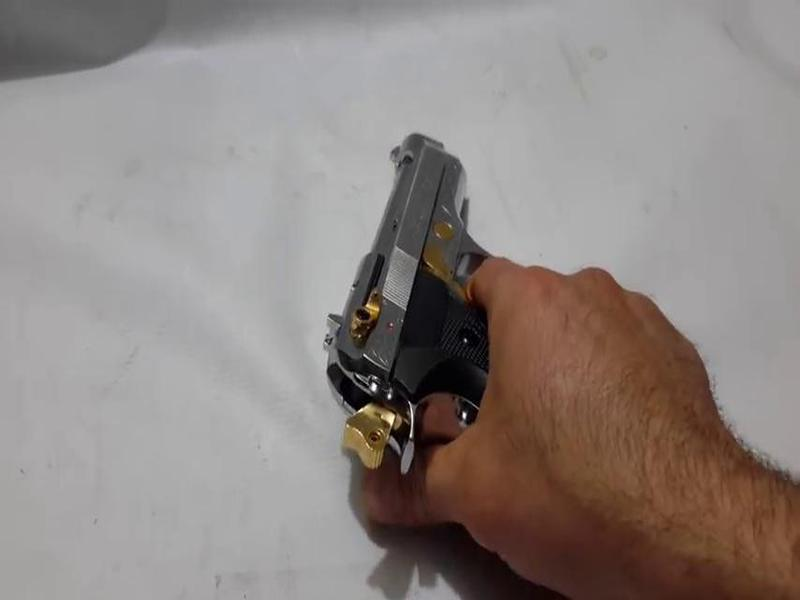Pistola: (317, 121, 549, 462)
